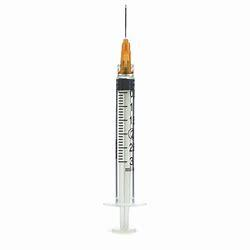Syringe: (92, 2, 154, 236)
